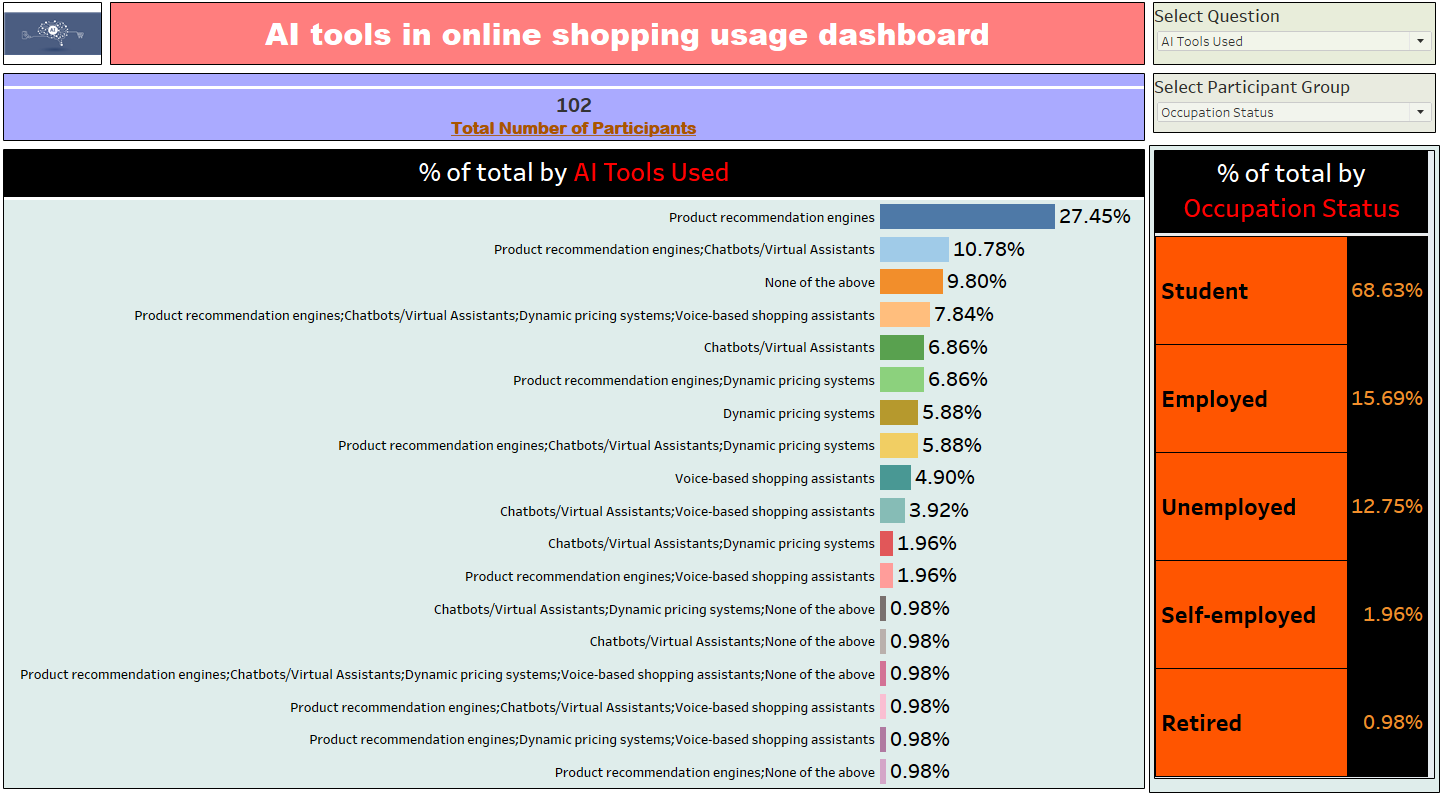

The dashboard page shown, as its layout file describes it:
{"tool":"tableau","page":{"name":"Dashboard","canvas":[1000,1000],"units":"permille","ordinal":0},"visuals":[{"type":"image","param":"Image/images.png","box":[4.2,9.9,77.9,87.5]},{"type":"text","box":[82.1,9.9,759.5,87.5]},{"type":"parameter","param":"[Parameters].[Parameter 1]","box":[841.6,9.9,154.1,87.5]},{"type":"worksheet","title":"Total No of Participants","mark":"Automatic","box":[4.2,97.4,837.4,93.7]},{"type":"parameter","param":"[Parameters].[Parameter 2]","box":[841.6,97.4,154.1,83.8]},{"type":"worksheet","title":"Parameter by % of total","mark":"Automatic","rows":["Calculation_699183897261547525"],"cols":["The Influence of AI in E-Commerce.csv_0D54B13139EB4AE488B1F7"],"box":[4.2,191.1,837.4,799]},{"type":"worksheet","title":"Participant Group","mark":"Automatic","rows":["Calculation_665969855279251457"],"box":[842.2,192.3,153.1,785.5]}]}

Visuals, with their boxes on the dashboard's canvas, which has no fixed pixel size, in thousandths of its width and height (x1, y1, x2, y2). These are canvas units, not pixel positions in the 1442x795 screenshot, which may show the page scaled, cropped or inside an application window:
image: {"x1": 4, "y1": 10, "x2": 82, "y2": 97}
text: {"x1": 82, "y1": 10, "x2": 842, "y2": 97}
parameter: {"x1": 842, "y1": 10, "x2": 996, "y2": 97}
"Total No of Participants" worksheet: {"x1": 4, "y1": 97, "x2": 842, "y2": 191}
parameter: {"x1": 842, "y1": 97, "x2": 996, "y2": 181}
"Parameter by % of total" worksheet: {"x1": 4, "y1": 191, "x2": 842, "y2": 990}
"Participant Group" worksheet: {"x1": 842, "y1": 192, "x2": 995, "y2": 978}
